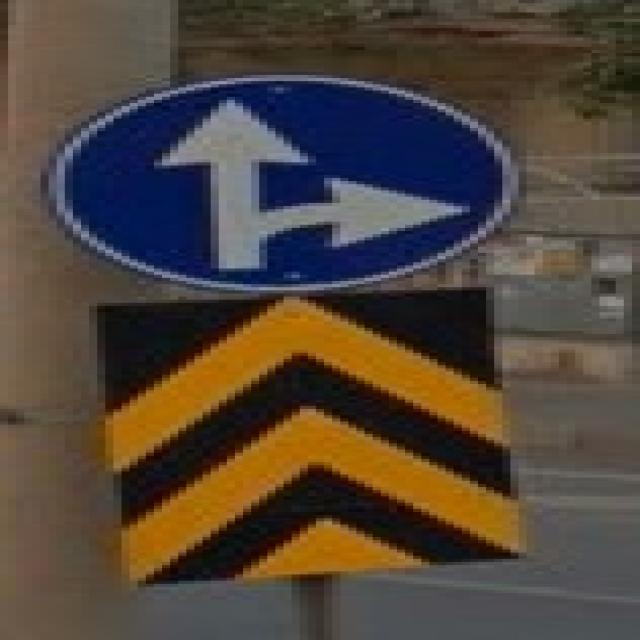Straight or Right: (54, 78, 516, 287)
